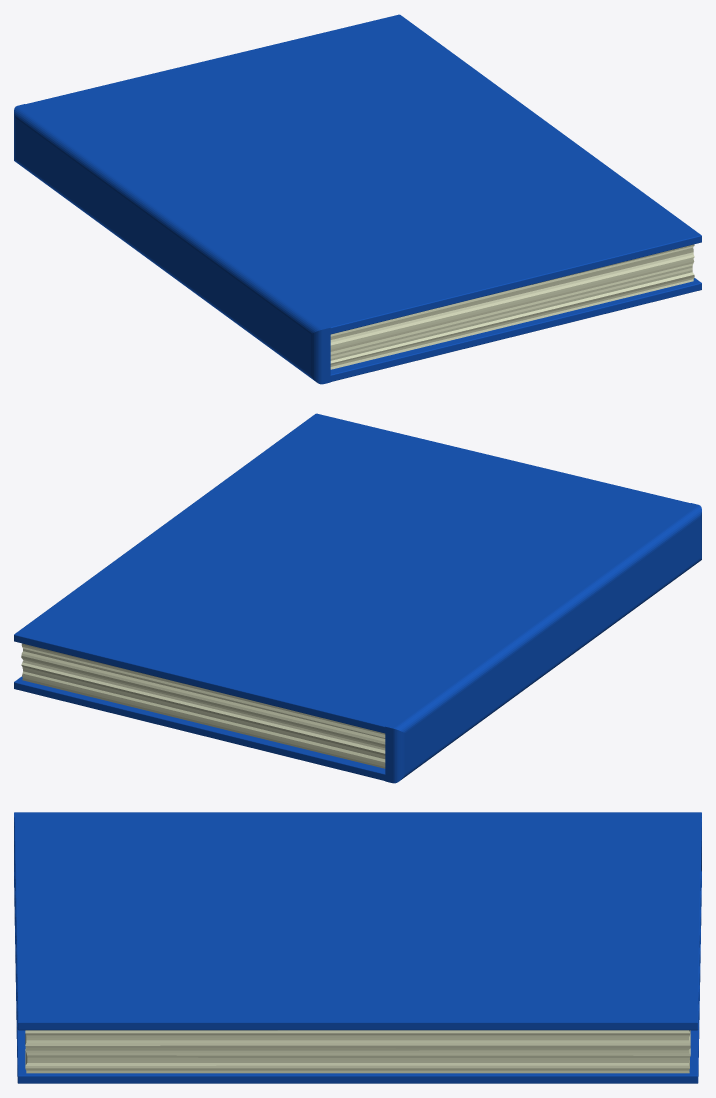
Rendered from book.fbx.
3 renders of one model, top to bottom at view 1: azimuth 30°, elevation 25°; view 2: azimuth 150°, elevation 25°; view 3: azimuth 270°, elevation 25°, orthographic. The views are drawn at different scales.
Parts seen in each view (by area): view 1: Plane, Plane.001; view 2: Plane, Plane.001; view 3: Plane, Plane.001.
Part boxes in pixels (left/top/right/bottom): Plane: left=14, top=14, right=701, bottom=384; Plane.001: left=330, top=244, right=694, bottom=369; Plane: left=14, top=413, right=701, bottom=783; Plane.001: left=21, top=643, right=385, bottom=768; Plane: left=14, top=812, right=701, bottom=1083; Plane.001: left=25, top=1030, right=690, bottom=1073.
Bounding box in the file's own units: 211 × 28.44 × 287.
